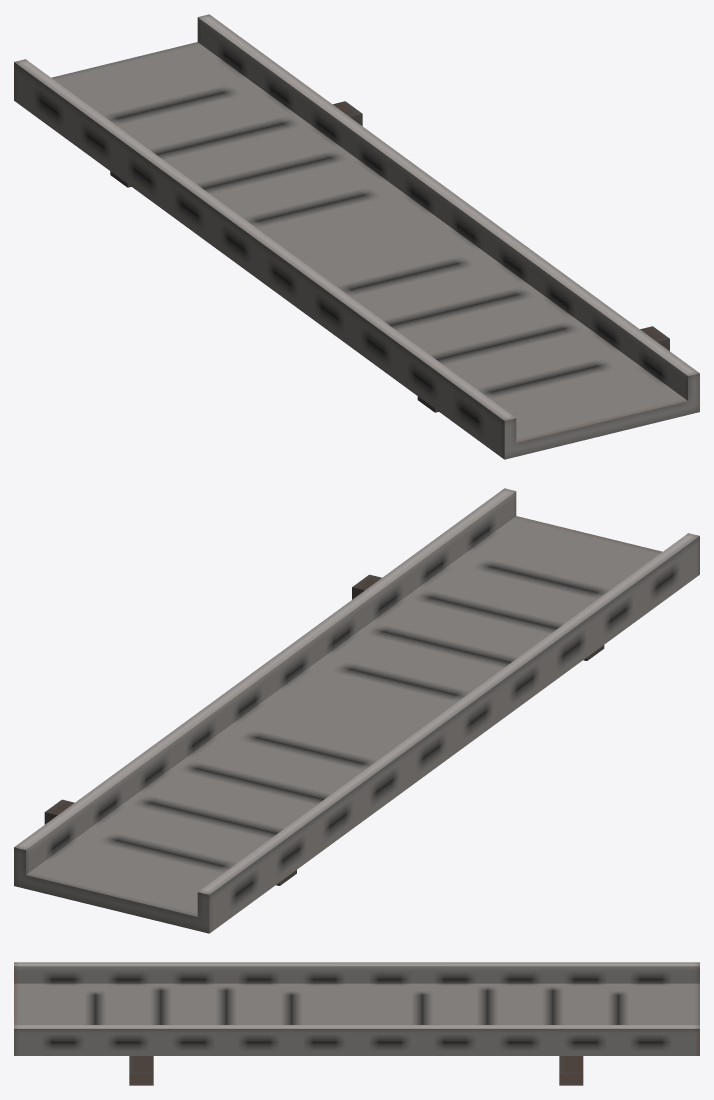
File: obj_cableRail.fbx
3 views of the same model, one above another, from view 1: azimuth 30°, elevation 25°; view 2: azimuth 150°, elevation 25°; view 3: azimuth 270°, elevation 25° (orthographic). The views are drawn at different scales.
Visible parts, largest first — view 1: obj_cableRail; view 2: obj_cableRail; view 3: obj_cableRail.
Boxes of the visible parts, x1=… form: obj_cableRail: x1=14, y1=14, x2=699, y2=459; obj_cableRail: x1=14, y1=488, x2=699, y2=933; obj_cableRail: x1=14, y1=962, x2=699, y2=1085.
Bounding box in the file's own units: 29.19 × 6.23 × 100.
